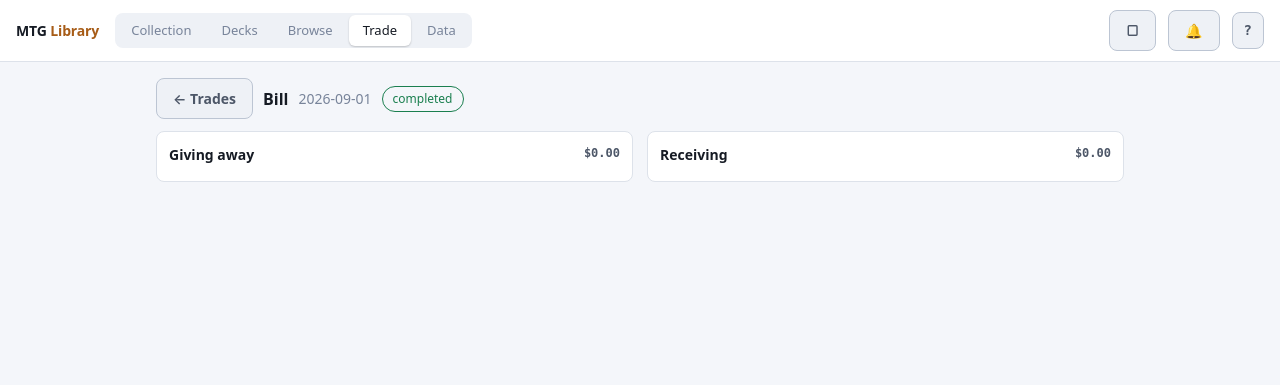
Test case: routing › the back arrow inside a trade pushes /trades rather than leaving the app
The width and height of the screenshot is (1280, 385).
Expected: the text "Bill" is shown, [263,86,288,110]
Step 1. Click the button "← Trades" → {"x": 204, "y": 98}, box [156,78,253,119]
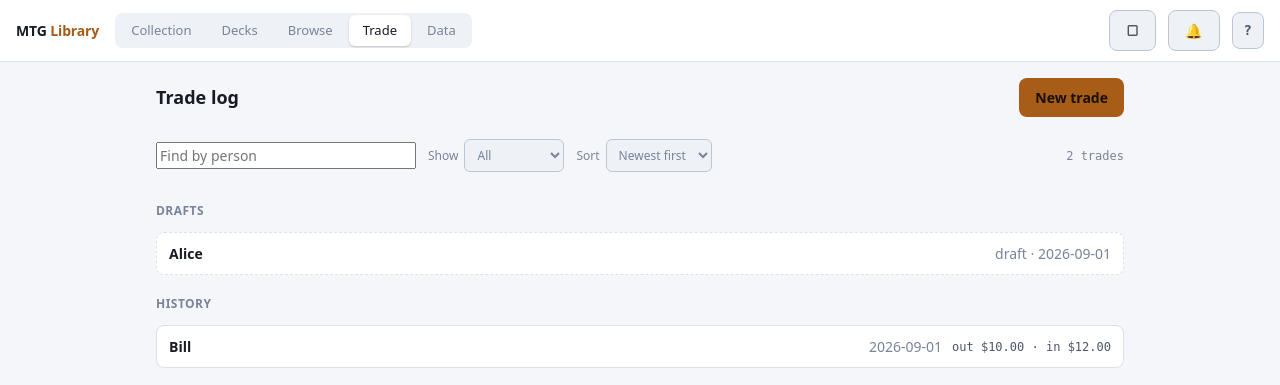
Now the button "Bill 2026-09-01 out $10.00 · in $12.00" is shown, box [156,325,1124,368]
